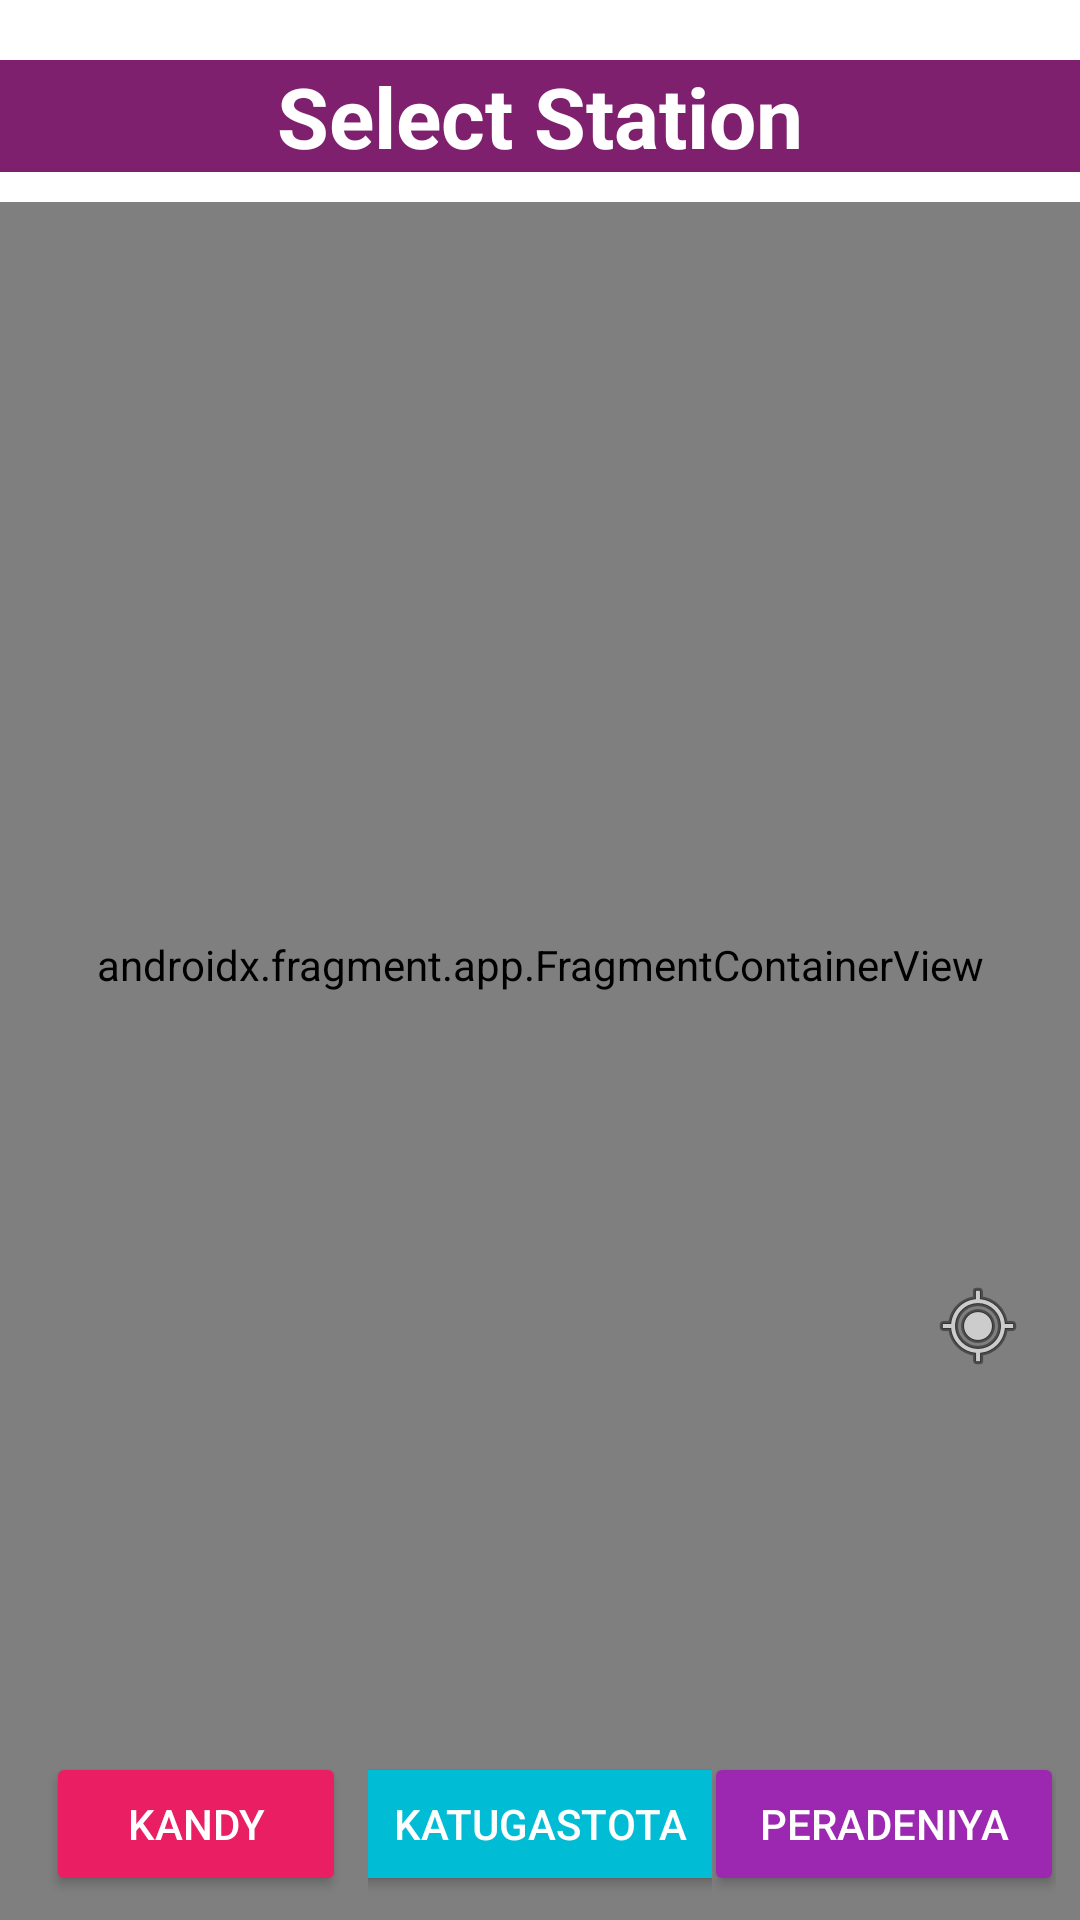

Where to tap for icons on this 1080px×1920px app screen, as [x,y]:
My Location: [978,1326]
